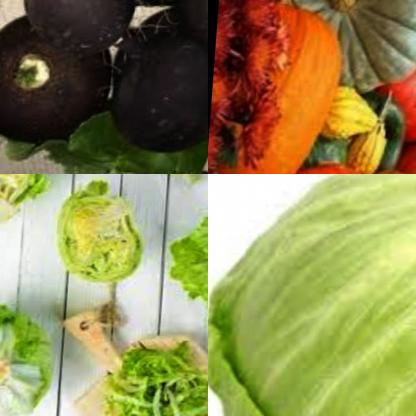cabbage: (208, 174, 416, 416)
pumpkin: (212, 0, 348, 174), (286, 0, 416, 91), (309, 73, 400, 156), (378, 0, 416, 139), (367, 108, 416, 174), (279, 155, 386, 174)
redka: (0, 15, 119, 145), (114, 1, 208, 154), (13, 0, 150, 56)
salad: (51, 181, 156, 287), (99, 340, 208, 416), (0, 309, 62, 416), (163, 220, 208, 322), (0, 174, 52, 229)
